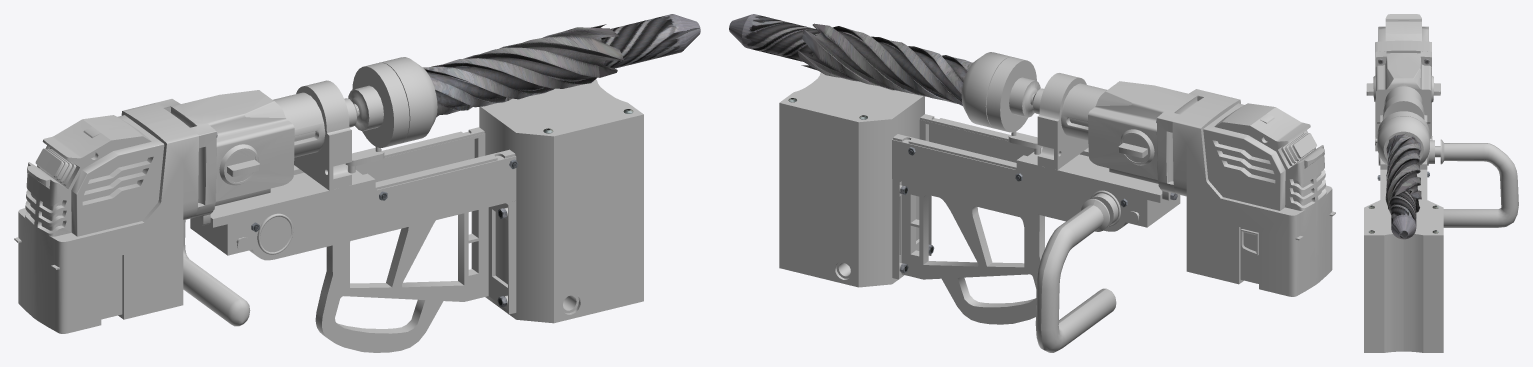
Rendered from drillpress.fbx.
3 renders of one model, left to right at view 1: azimuth 30°, elevation 25°; view 2: azimuth 150°, elevation 25°; view 3: azimuth 270°, elevation 25°, orthographic. The views are drawn at different scales.
Parts seen in each view (by area): view 1: weapon_drill_press_LOD0, Cylinder; view 2: weapon_drill_press_LOD0, Cylinder; view 3: weapon_drill_press_LOD0, Cylinder.
Part boxes in pixels (left/top/right/bottom): weapon_drill_press_LOD0: left=14, top=24, right=643, bottom=352; Cylinder: left=601, top=14, right=700, bottom=68; weapon_drill_press_LOD0: left=779, top=23, right=1335, bottom=352; Cylinder: left=729, top=14, right=819, bottom=61; weapon_drill_press_LOD0: left=1364, top=14, right=1518, bottom=352; Cylinder: left=1391, top=190, right=1416, bottom=239.
Bounding box in the file's own units: 7971 × 3447 × 2559.
